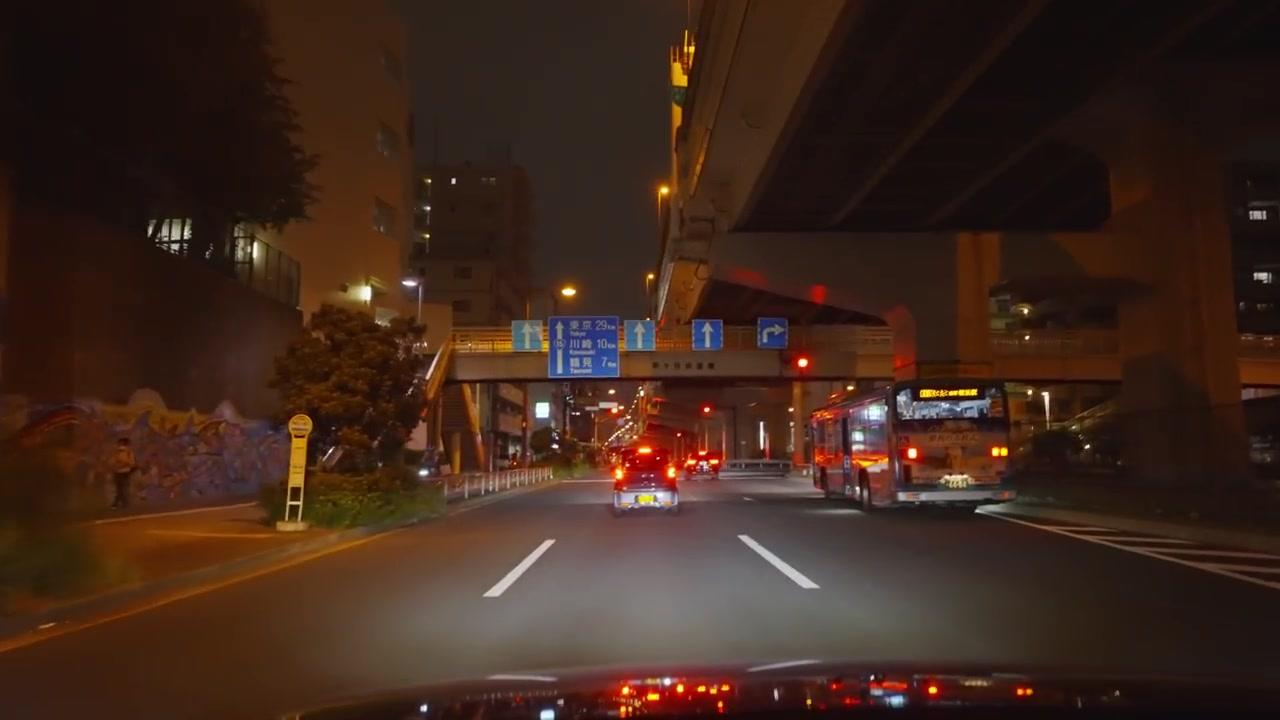bus: (808, 379, 1016, 511)
car: (609, 441, 682, 517), (686, 450, 722, 476)
person: (108, 436, 135, 509)
traffic light: (793, 354, 812, 375), (701, 402, 713, 415)
